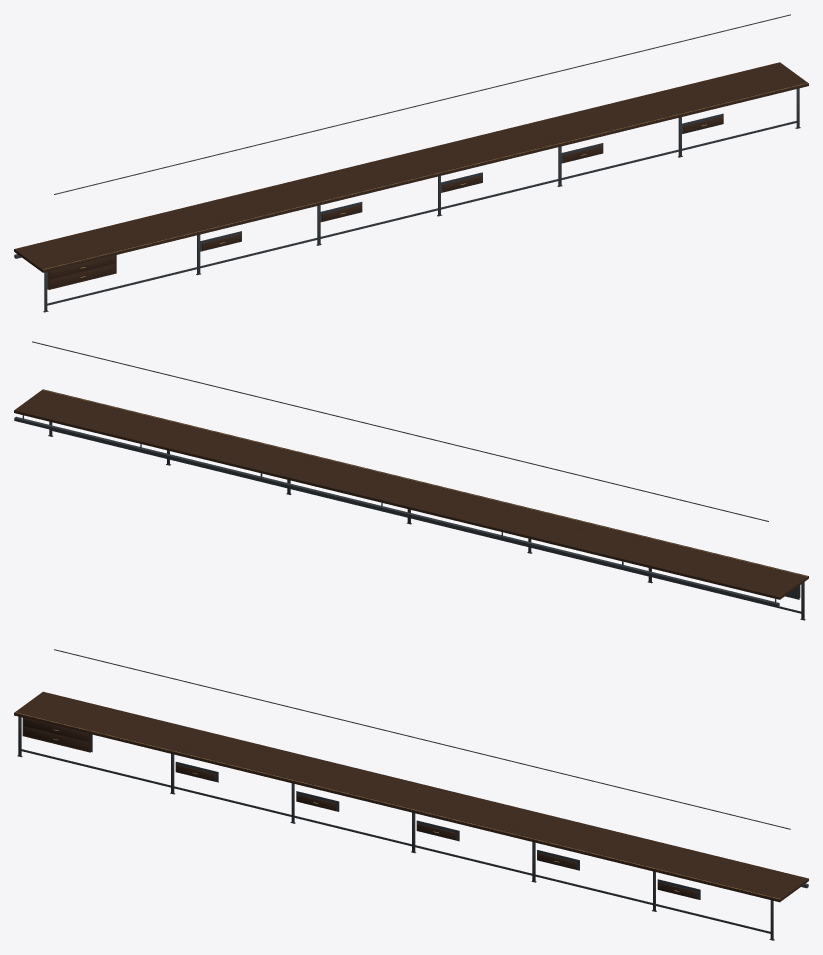
File: workbench.glb
3 views of the same model, one above another, from view 1: azimuth 30°, elevation 25°; view 2: azimuth 150°, elevation 25°; view 3: azimuth 330°, elevation 25° (orthographic).
Visible parts, largest first — view 1: WorkbenchWalnut, WorkbenchSteel, WorkbenchBrass; view 2: WorkbenchWalnut, WorkbenchSteel, WorkbenchBrass; view 3: WorkbenchWalnut, WorkbenchSteel, WorkbenchBrass.
Boxes of the visible parts, x1,y1,x2,y2 form: WorkbenchWalnut: (14,62,808,289); WorkbenchSteel: (14,14,800,312); WorkbenchBrass: (43,83,807,277); WorkbenchWalnut: (14,389,808,599); WorkbenchSteel: (14,341,805,620); WorkbenchBrass: (43,390,807,576); WorkbenchWalnut: (14,691,808,902); WorkbenchSteel: (17,649,808,940); WorkbenchBrass: (16,712,778,898).
Size of the model in its own units: 13.99 by 1.8 by 0.95.
Materials: 4 (2 with a texture image).
